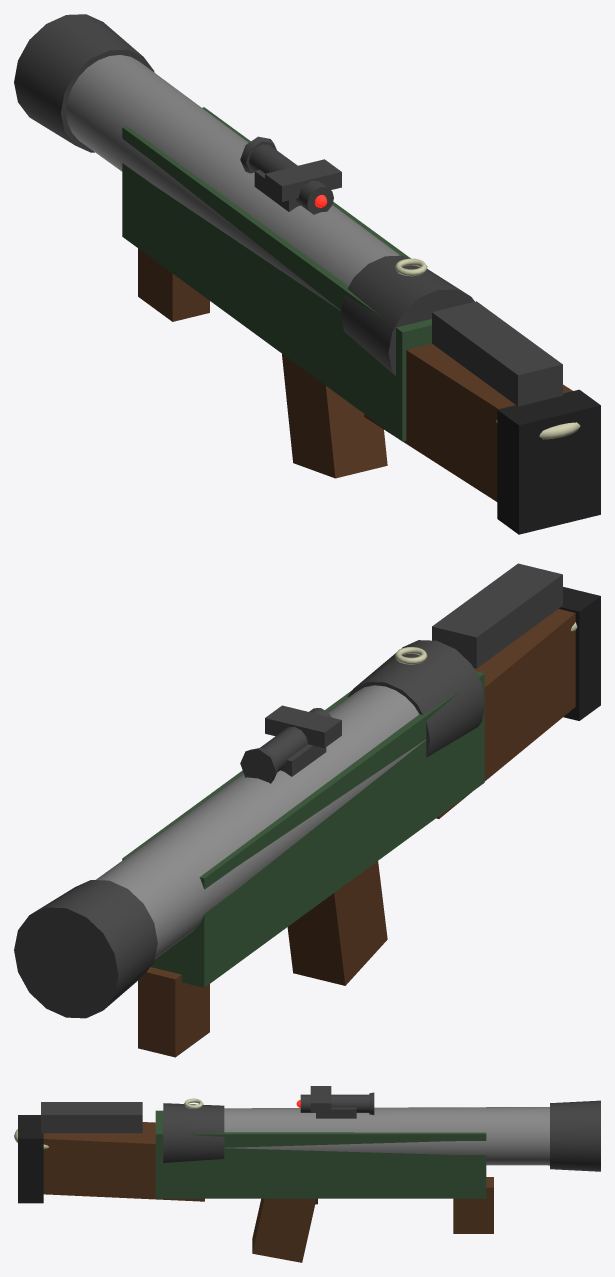
Rendered from rocket_launcher.glb.
3 renders of one model, top to bottom at view 1: azimuth 30°, elevation 25°; view 2: azimuth 150°, elevation 25°; view 3: azimuth 270°, elevation 25°, orthographic. The views are drawn at different scales.
Bounding box in the file's own units: 0.14 × 0.3523 × 1.15.
